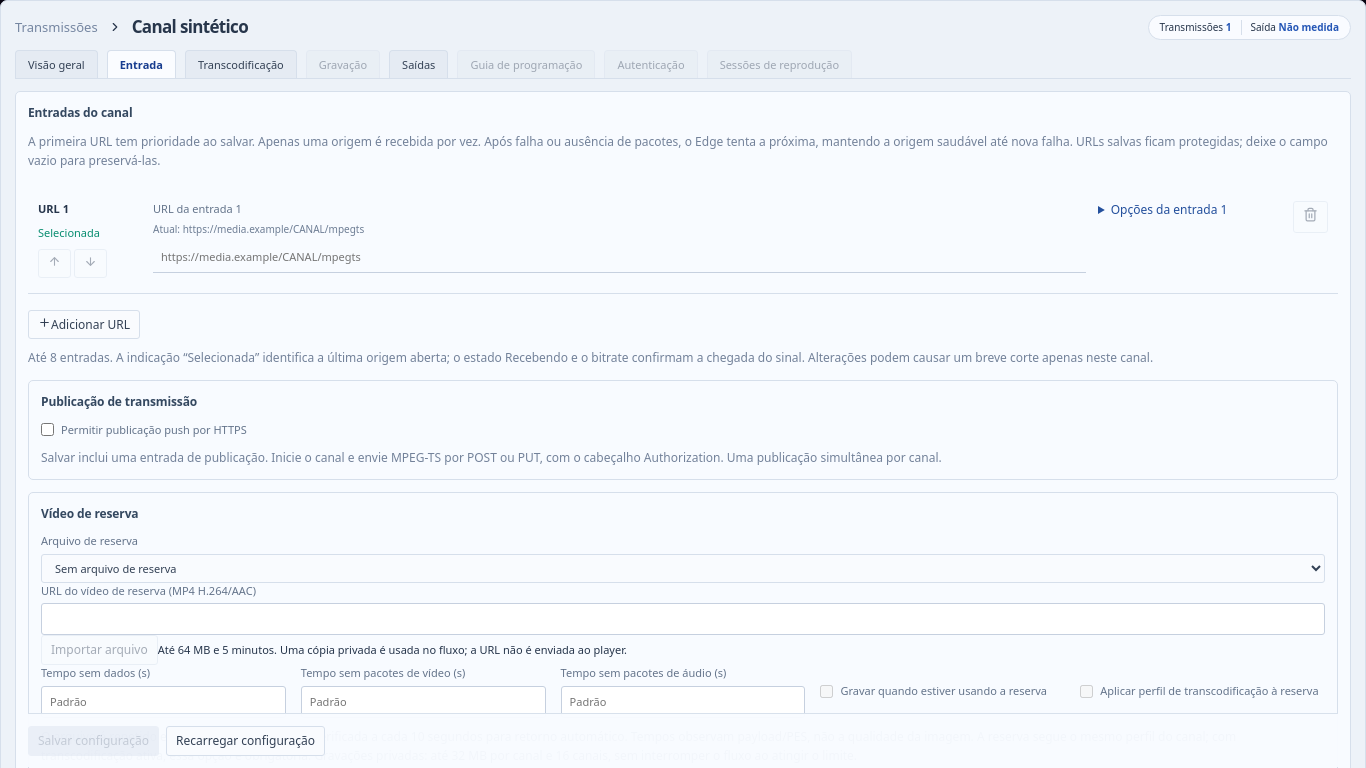
Test: supports direct input links and returning to transmissions without any channel action
The width and height of the screenshot is (1366, 768).
Expected: the heading "Entradas do canal" is shown, [28,104,132,121]
Expected: the field with placeholder "https://media.example/CANAL/mpegts" is shown, [153,242,1086,272]
Click the link "Transmissões" at {"x": 56, "y": 27}, box [15,18,98,37]
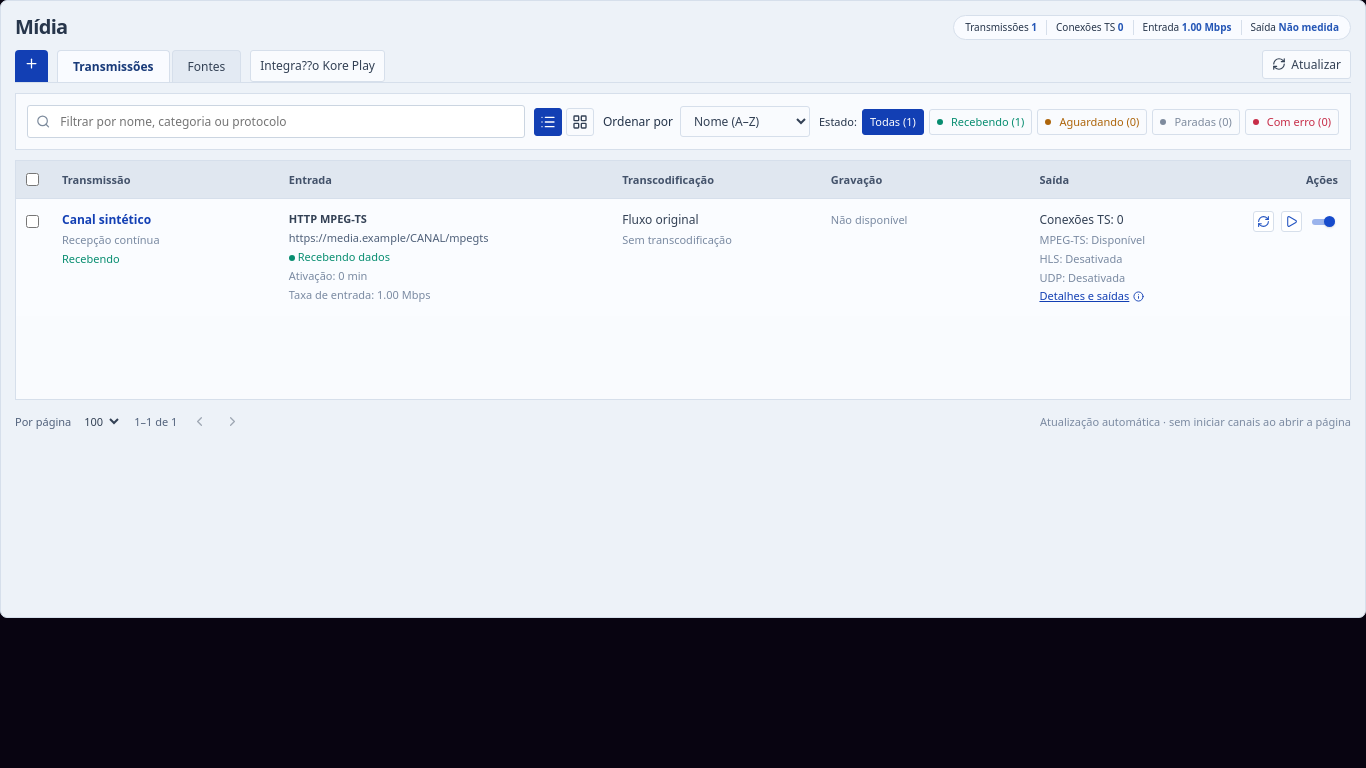
Expected: the heading "Mídia" is shown, [15,15,68,39]
